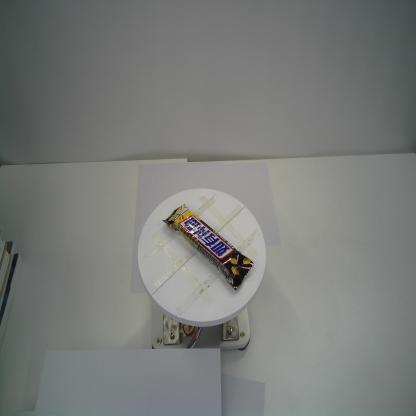Chocolate: (162, 203, 255, 291)
